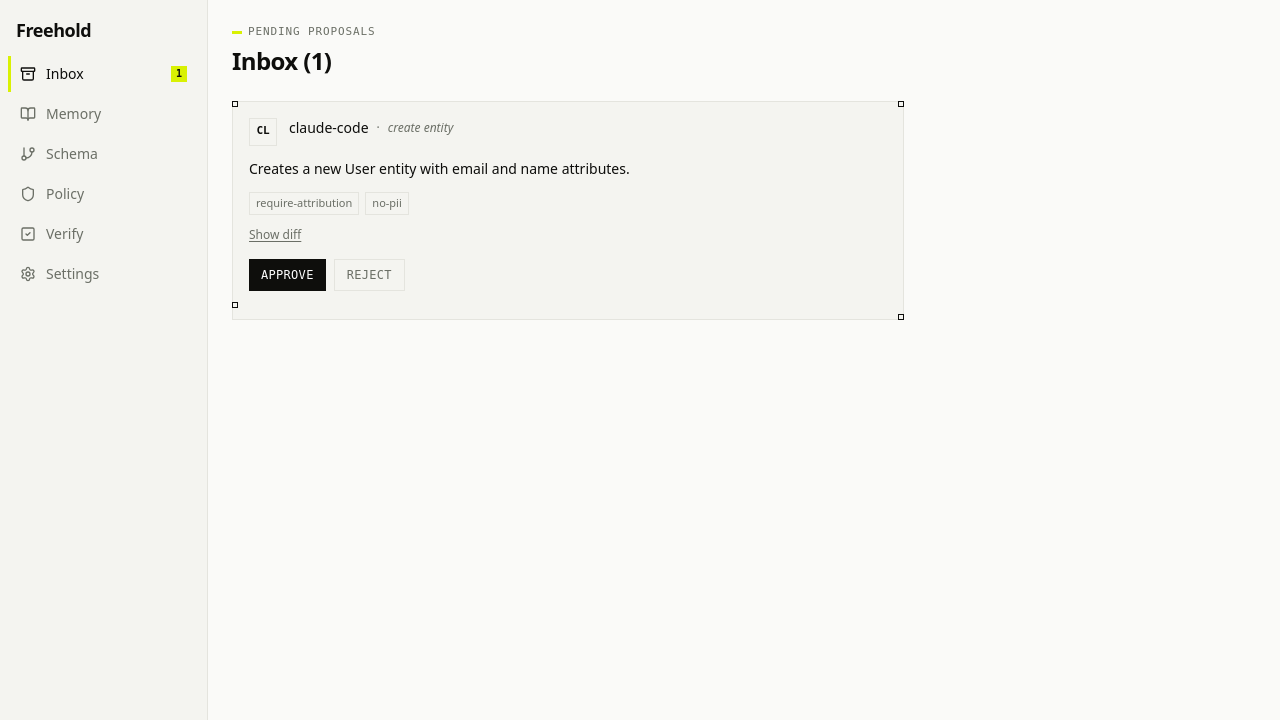
Test: Inbox › approve button opens dialog with exact confirmation text
The width and height of the screenshot is (1280, 720).
The trigger button (outside dialog)
Click the button "Approve" at (287, 275), box [249,259,326,291]
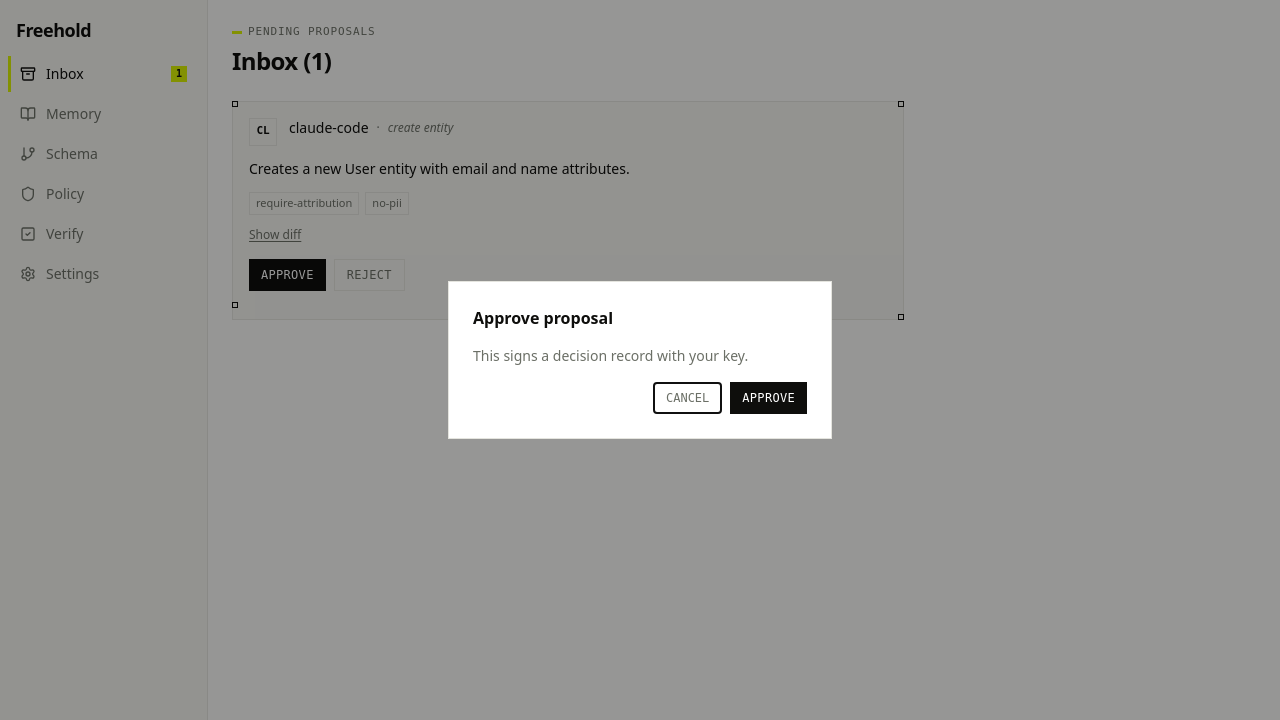
Expected: the text "This signs a decision record with your key." is shown, [473,346,748,365]
